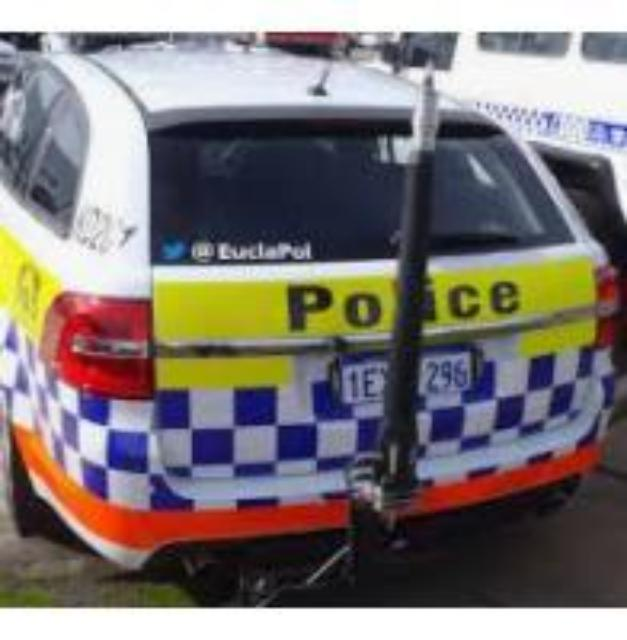police_car: (0, 41, 627, 579)
